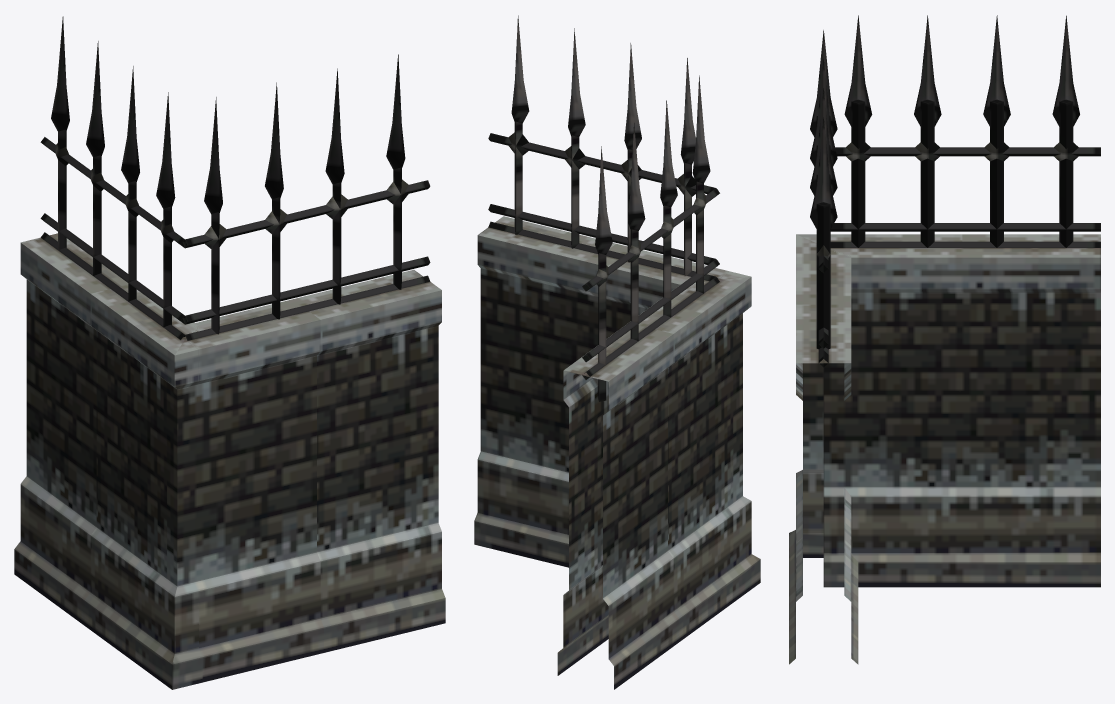
The model's file is EnvBdgMD_Snow_Seidoukikan_A_GrdWall_RF_CoOut.FBX.
3 views of the same model, side by side, from view 1: azimuth 30°, elevation 25°; view 2: azimuth 150°, elevation 25°; view 3: azimuth 270°, elevation 25° (orthographic). The views are drawn at different scales.
Visible parts, largest first — view 1: EnvBdgMD_Snow_Seidoukikan_A_GrdWall_RF_CoOut; view 2: EnvBdgMD_Snow_Seidoukikan_A_GrdWall_RF_CoOut; view 3: EnvBdgMD_Snow_Seidoukikan_A_GrdWall_RF_CoOut.
Part boxes in pixels (x1,y1,x2,y2): EnvBdgMD_Snow_Seidoukikan_A_GrdWall_RF_CoOut: (14,16,445,689); EnvBdgMD_Snow_Seidoukikan_A_GrdWall_RF_CoOut: (474,15,760,689); EnvBdgMD_Snow_Seidoukikan_A_GrdWall_RF_CoOut: (789,15,1100,664).
Size of the model in its own units: 225 by 445 by 225.
Materials: 1 (1 with a texture image).
